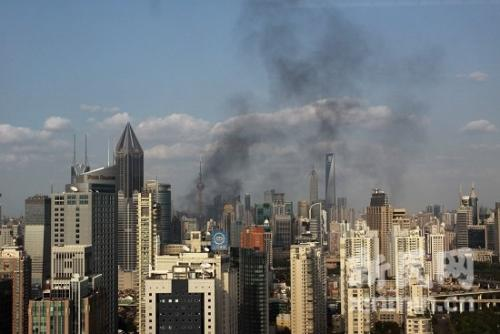smoke: (184, 119, 256, 220)
